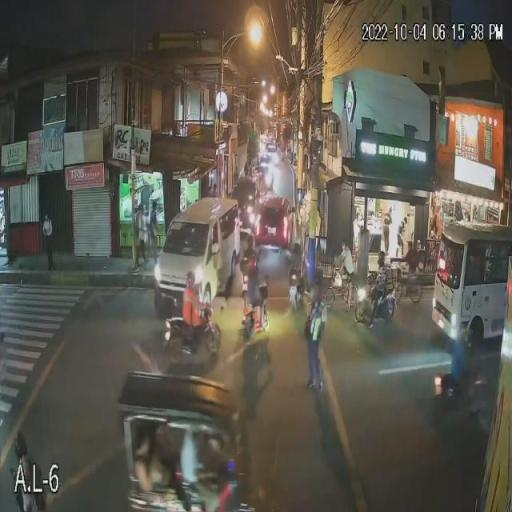helmet: (245, 256, 261, 270), (376, 251, 387, 266)
motorcycle: (163, 306, 223, 362), (353, 274, 400, 328), (240, 294, 270, 342), (286, 278, 306, 312)
rider: (242, 253, 268, 327), (363, 248, 392, 314), (182, 271, 208, 342), (286, 241, 302, 291)
